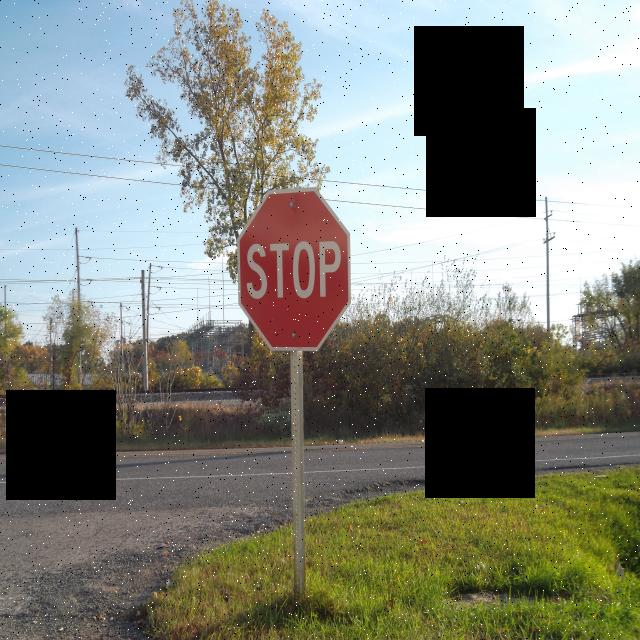stop: (237, 188, 352, 351)
